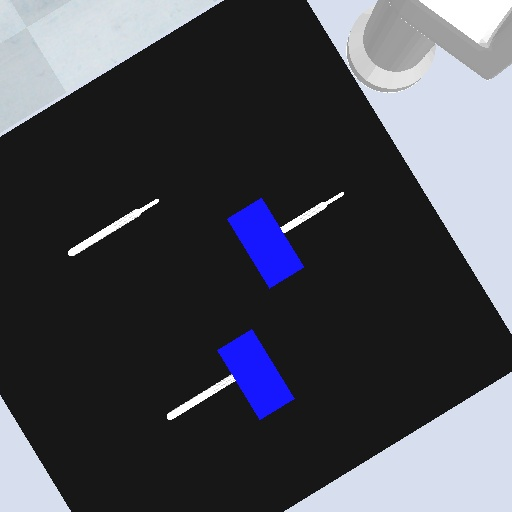bisturi: (65, 196, 164, 260), (165, 371, 237, 428), (278, 190, 346, 235)
